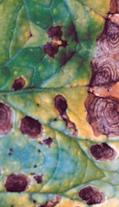Tomato Early blight leaf: (0, 20, 119, 187)
